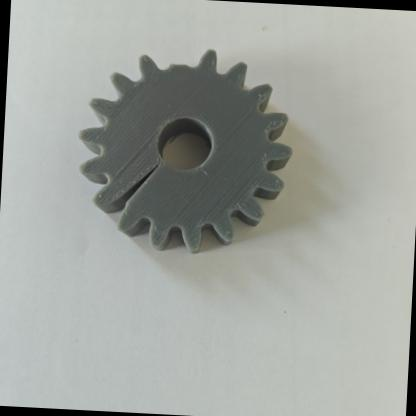defect: (75, 148, 200, 258), (129, 15, 237, 106)
gear: (66, 34, 304, 288)
